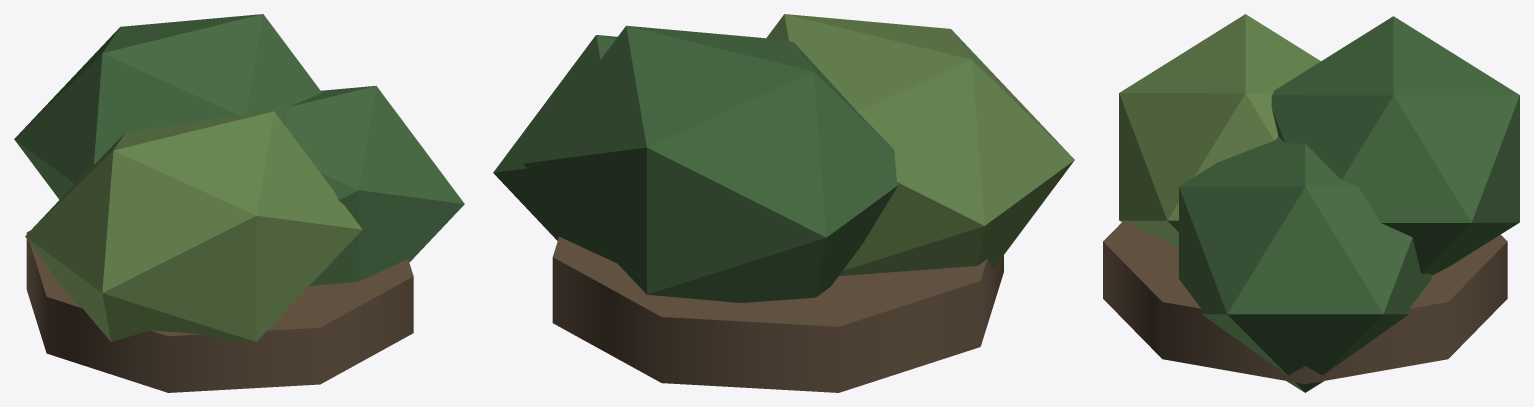
The model's file is plant-moss-1.glb.
3 renders of one model, left to right at view 1: azimuth 30°, elevation 25°; view 2: azimuth 150°, elevation 25°; view 3: azimuth 270°, elevation 25°, orthographic. The views are drawn at different scales.
Parts seen in each view (by area): view 1: plant-moss-1-visual; view 2: plant-moss-1-visual; view 3: plant-moss-1-visual.
Part boxes in pixels (x1,y1,x2,y2): plant-moss-1-visual: (14, 14, 464, 392); plant-moss-1-visual: (493, 14, 1074, 392); plant-moss-1-visual: (1103, 14, 1519, 392).
Size of the model in its own units: 0.3616 by 0.23 by 0.3297.
